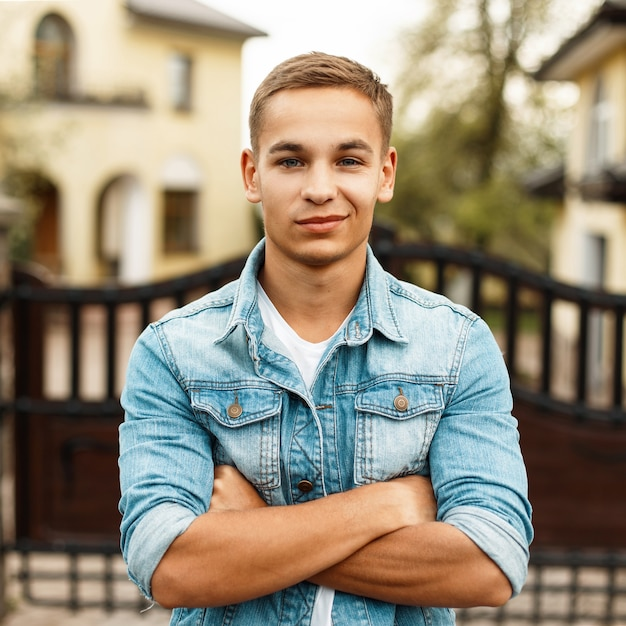teen: (226, 40, 402, 281)
